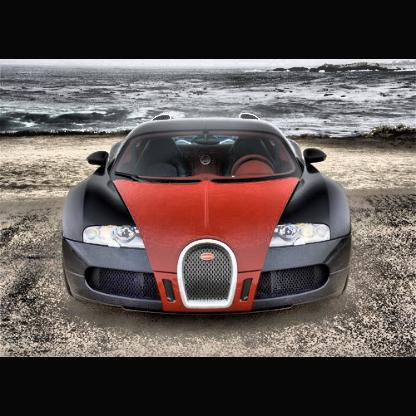Bugatti Veyron 16-4 Coupe 2009: (61, 111, 356, 323)
